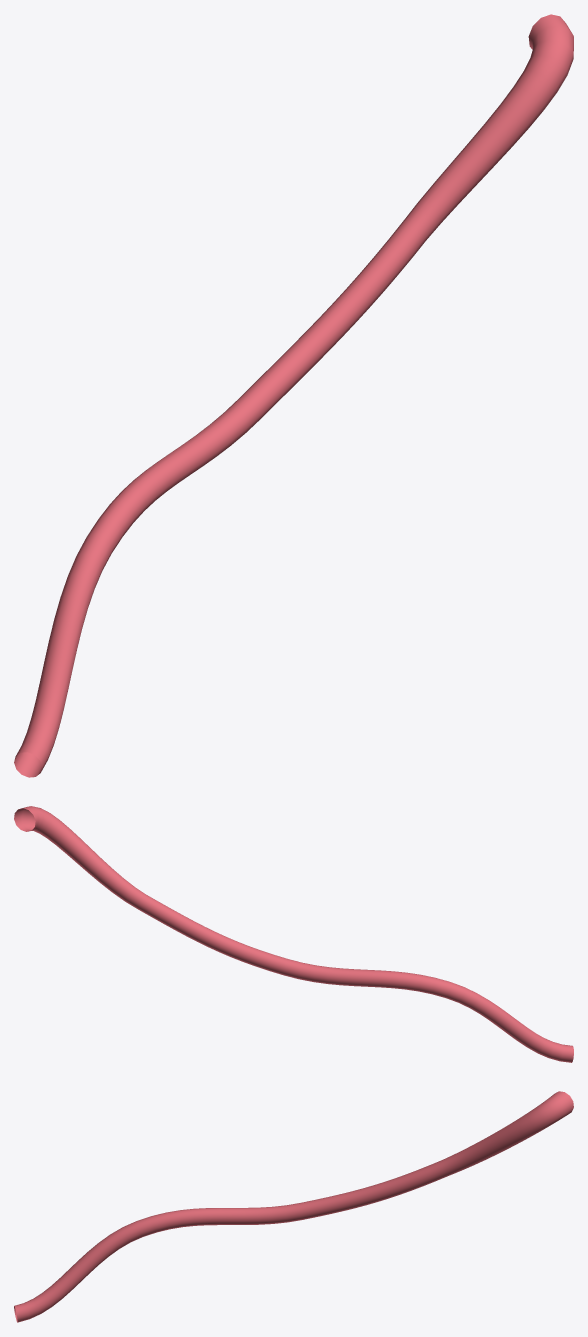
3 views of the same model, one above another, from view 1: azimuth 30°, elevation 25°; view 2: azimuth 150°, elevation 25°; view 3: azimuth 330°, elevation 25° (orthographic). The views are drawn at different scales.
Visible parts, largest first — view 1: ZA_eb0886e8241e61bc; view 2: ZA_eb0886e8241e61bc; view 3: ZA_eb0886e8241e61bc.
Boxes of the visible parts, x1,y1,x2,y2 form: ZA_eb0886e8241e61bc: (14,14,573,777); ZA_eb0886e8241e61bc: (14,806,573,1062); ZA_eb0886e8241e61bc: (14,1091,573,1322).
Size of the model in its own units: 0.0397 by 0.021 by 0.0202.
